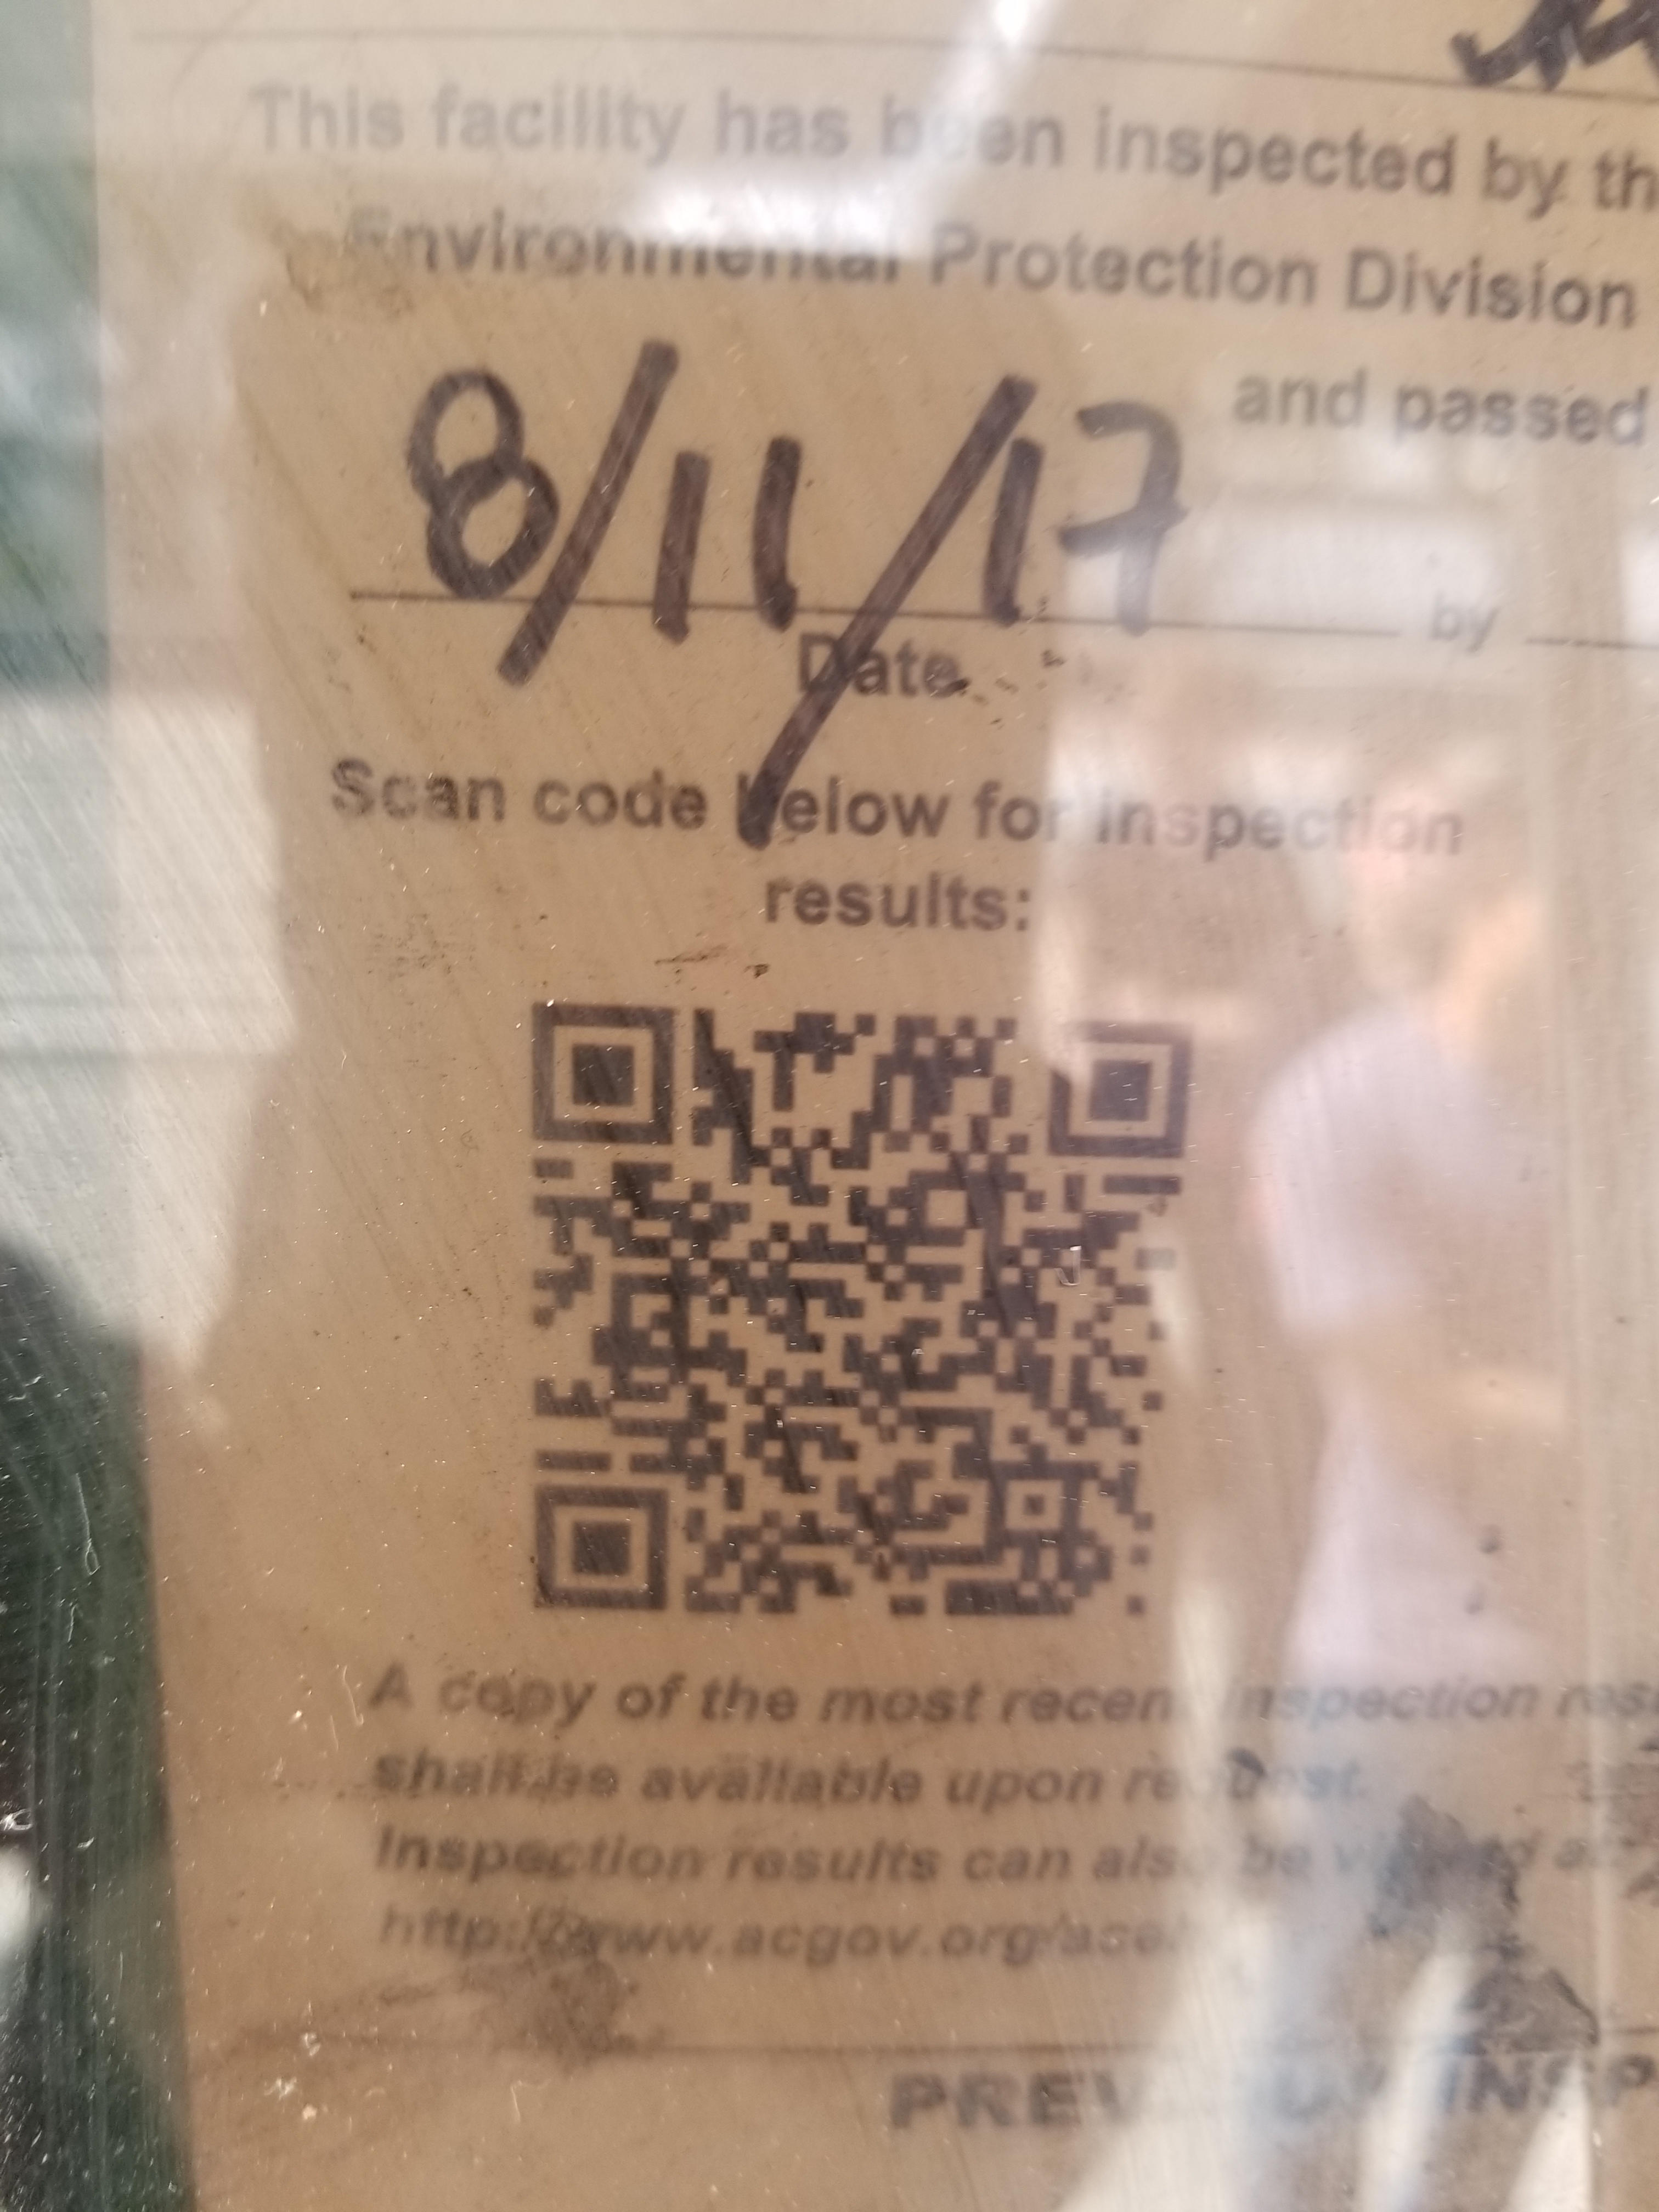QR_CODE: (476, 939, 1223, 1662)
